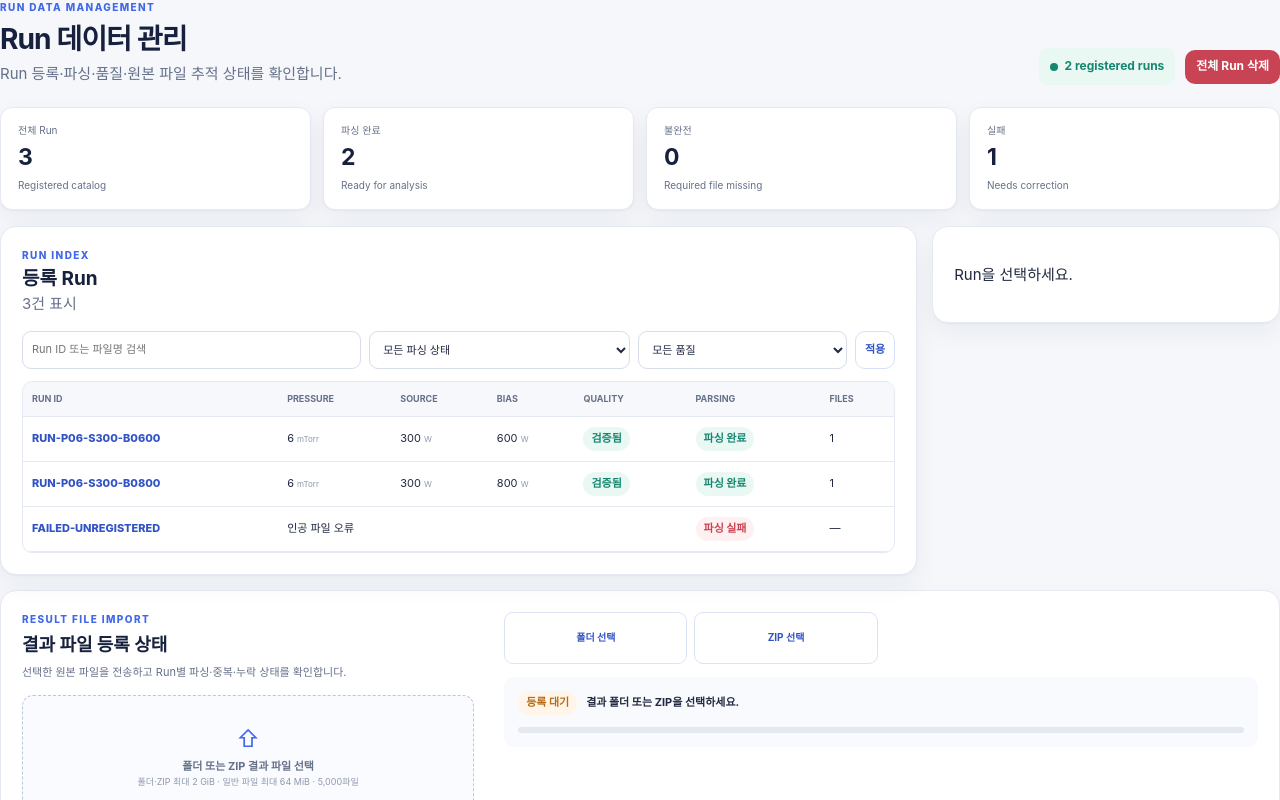
Test: IMPORT_IN_PROGRESS preserves the entire catalog and displays the server reason
Expected: the button "RUN-P06-S300-B0600" is shown, [32,430,160,447]
Click the button "전체 Run 삭제" at (1233, 67), box [1185,50,1279,84]
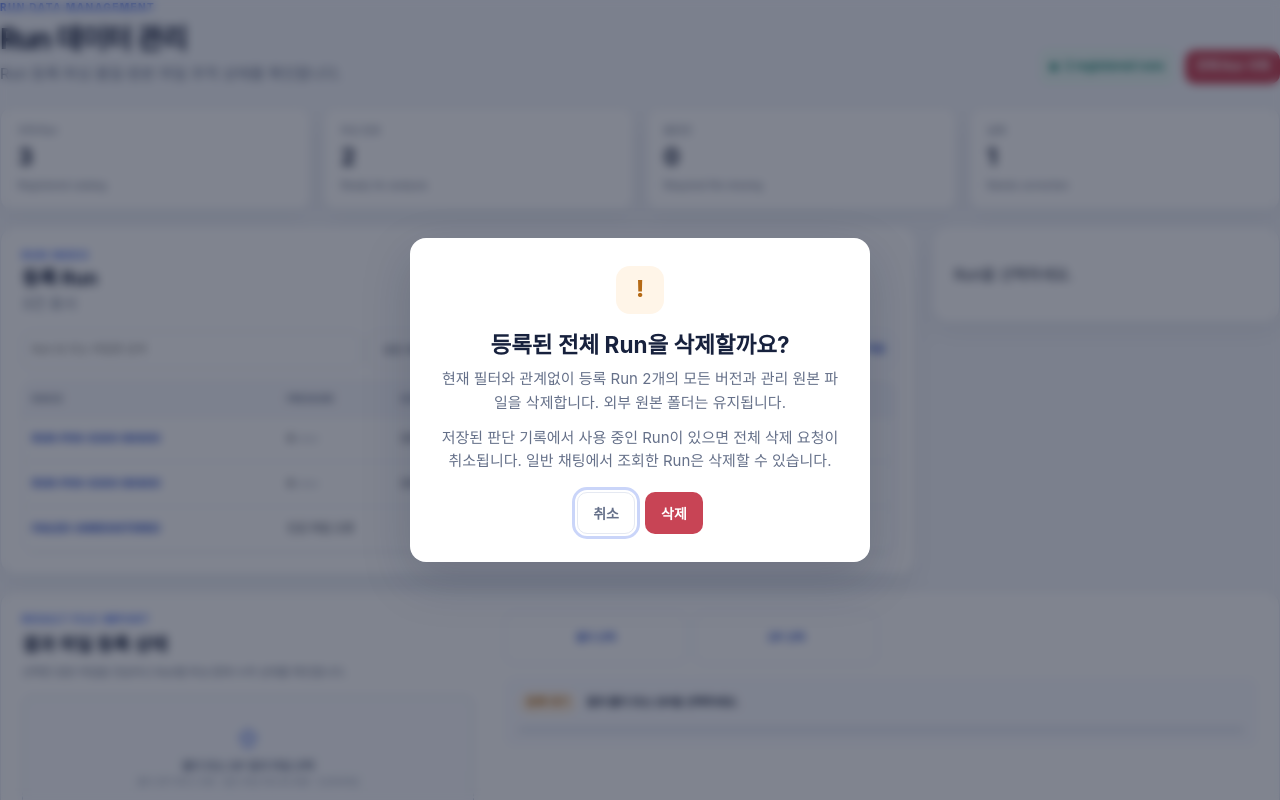
Click the button "삭제" at (674, 513), box [645,492,703,534]
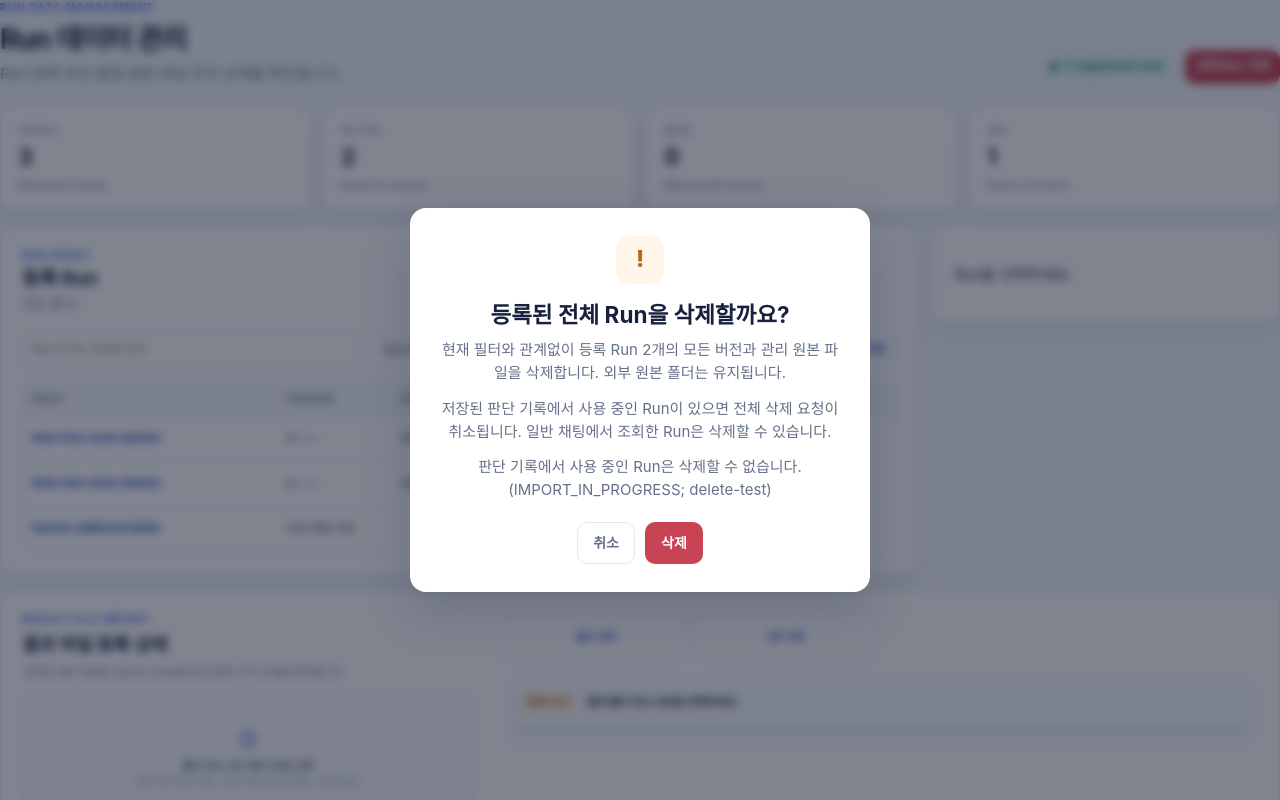
Expected: the button "RUN-P06-S300-B0600" is shown, [32,430,160,447]
Now the message shows "IMPORT_IN_PROGRESS", box [478,457,802,500]
